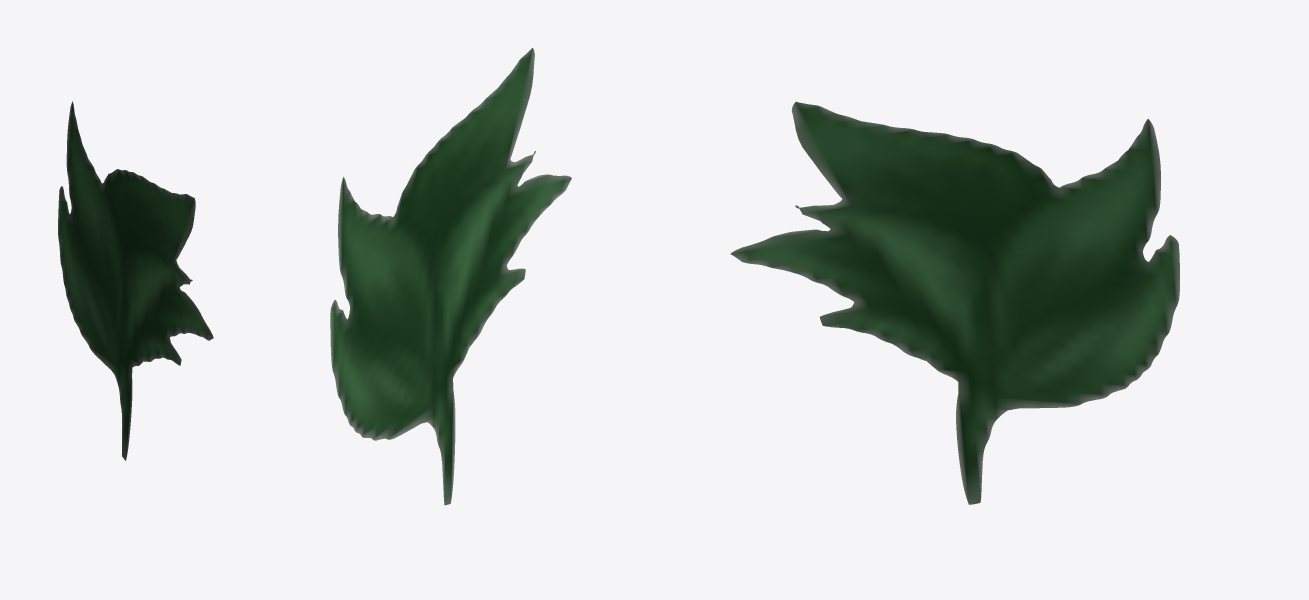
File: F_KrzaczekZielony3.fbx
The picture shows the model from 3 angles, left to right: view 1: azimuth 30°, elevation 25°; view 2: azimuth 150°, elevation 25°; view 3: azimuth 270°, elevation 25°; orthographic projection. The views are drawn at different scales.
Parts seen in each view (by area): view 1: F_KrzaczekZielony3; view 2: F_KrzaczekZielony3; view 3: F_KrzaczekZielony3.
Boxes of the visible parts, x1=… form: F_KrzaczekZielony3: x1=58, y1=101, x2=213, y2=460; F_KrzaczekZielony3: x1=330, y1=48, x2=571, y2=505; F_KrzaczekZielony3: x1=730, y1=102, x2=1179, y2=504.
Bounding box in the file's own units: 16 × 242 × 242.
Materials: 1 (1 with a texture image).
